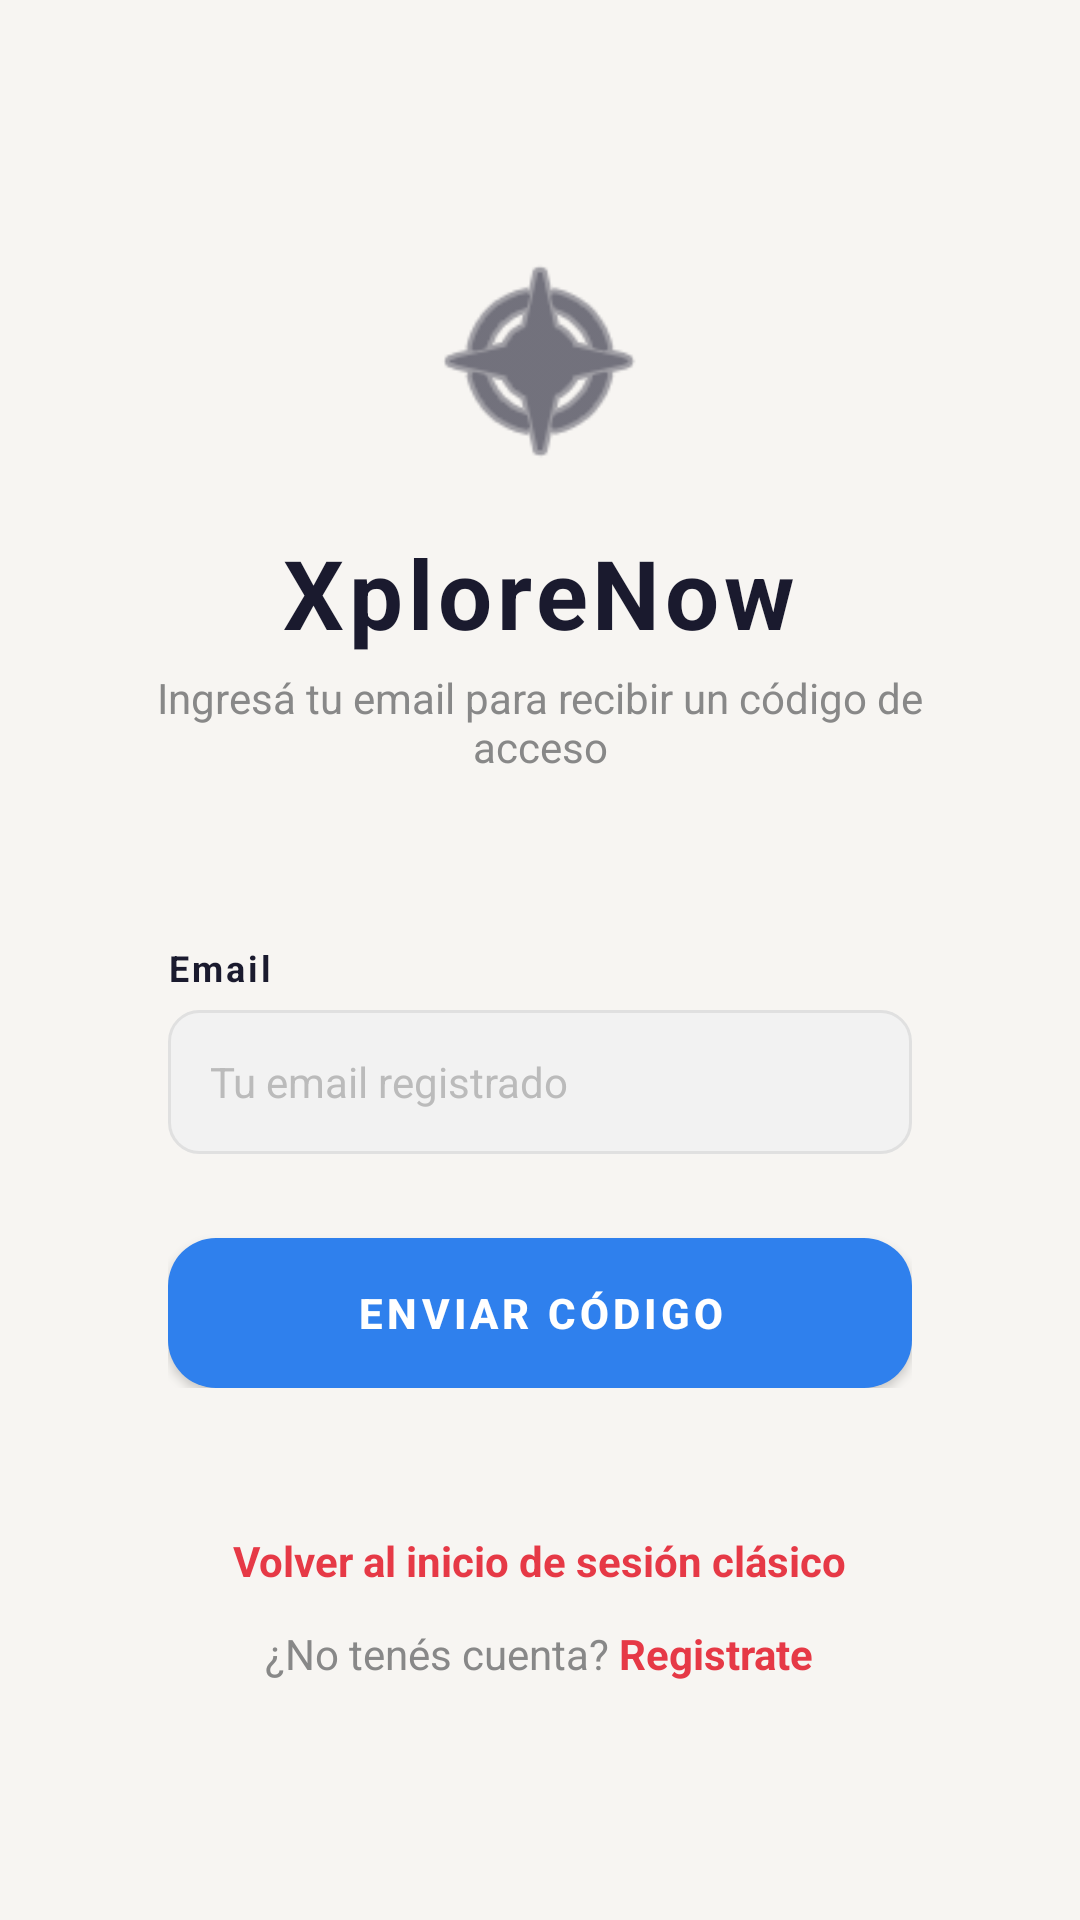

Locate icon controls on the screen. Image size 1080px x 1920px, boxes as (x1, y1, x2, y2).
compass: (444, 267, 634, 456)
